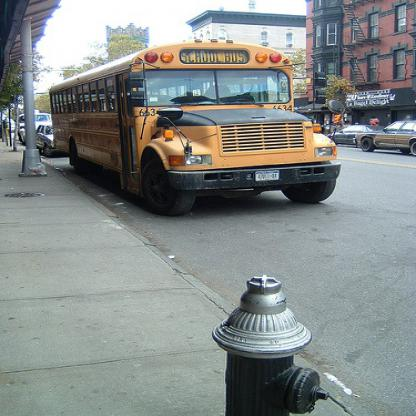bus: (46, 40, 342, 216)
car: (354, 119, 415, 157)
